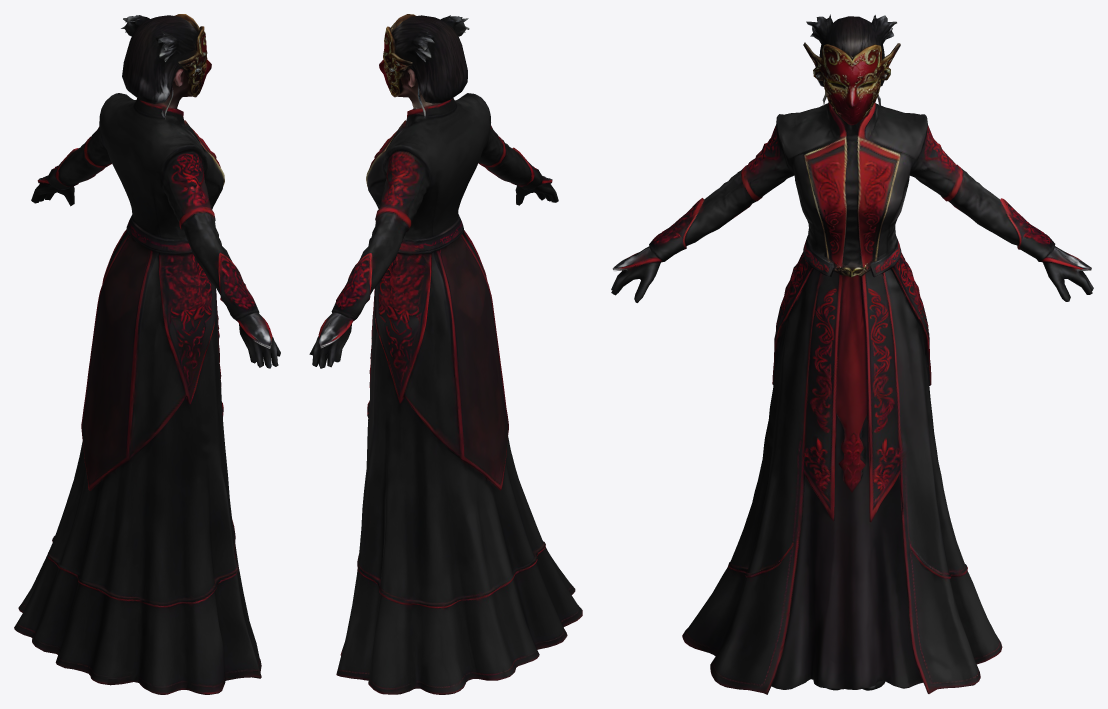
File: masquerade_red_black.glb
The picture shows the model from 3 angles, left to right: view 1: azimuth 30°, elevation 25°; view 2: azimuth 150°, elevation 25°; view 3: azimuth 270°, elevation 25°; orthographic projection. The views are drawn at different scales.
Parts seen in each view (by area): view 1: tripo_node_22ca38ba; view 2: tripo_node_22ca38ba; view 3: tripo_node_22ca38ba.
Part boxes in pixels (<box>): tripo_node_22ca38ba: <box>14,14,280,694</box>; tripo_node_22ca38ba: <box>309,14,582,694</box>; tripo_node_22ca38ba: <box>611,14,1093,694</box>.
Bounding box in the file's own units: 0.2901 × 1 × 0.67.
1 material, 1 textured.
